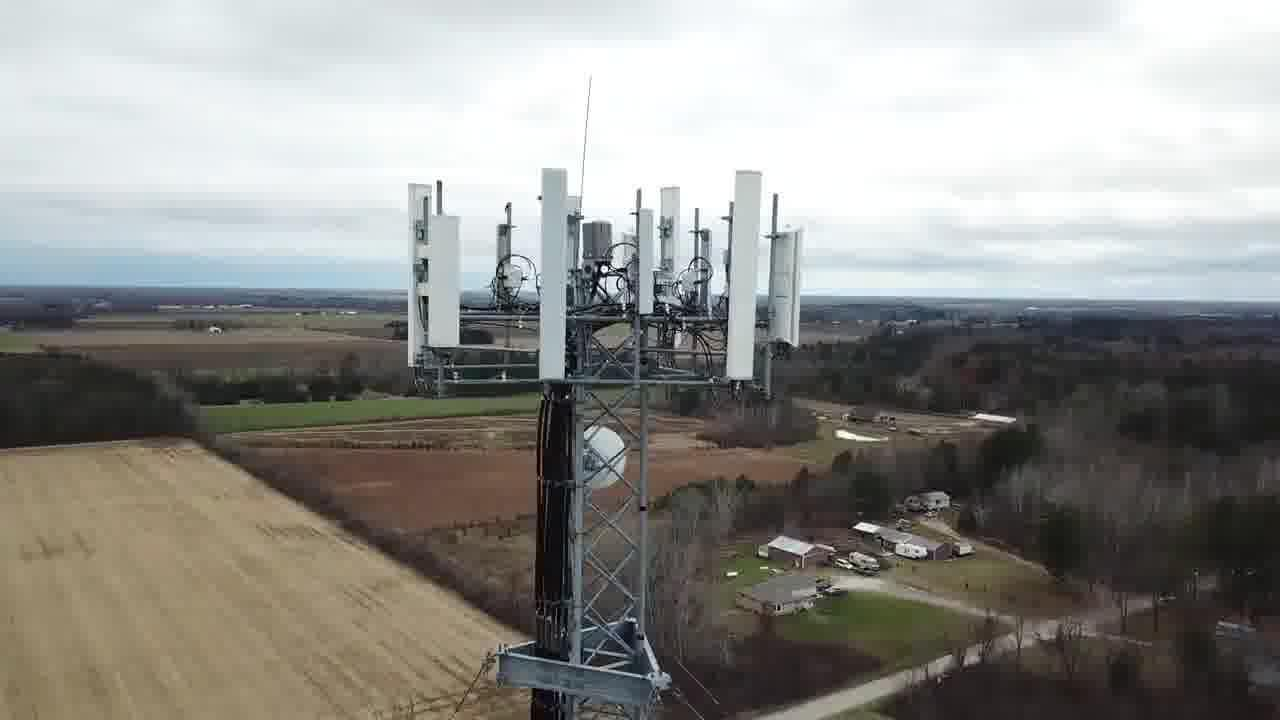Microwave Antenna: (577, 421, 632, 492)
antenna: (713, 169, 770, 380), (522, 159, 573, 390), (423, 205, 476, 358), (656, 179, 689, 316), (630, 208, 661, 309)
